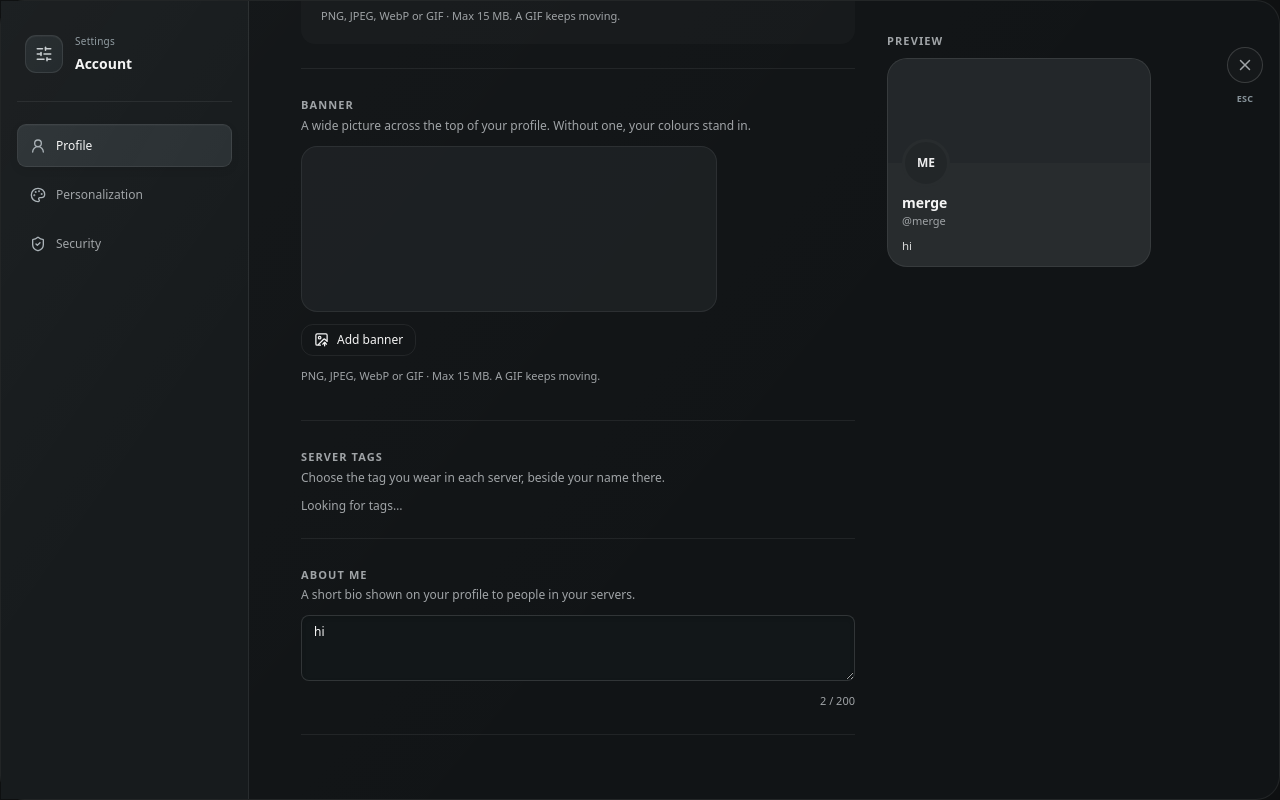
AccountDialog › puts everything back with Reset
The image size is (1280, 800).
(page scrolled)
Step 1. Replace the text in the text box named "Bio" with "changed my mind" → {"x": 578, "y": 648}, box [301,615,855,681]
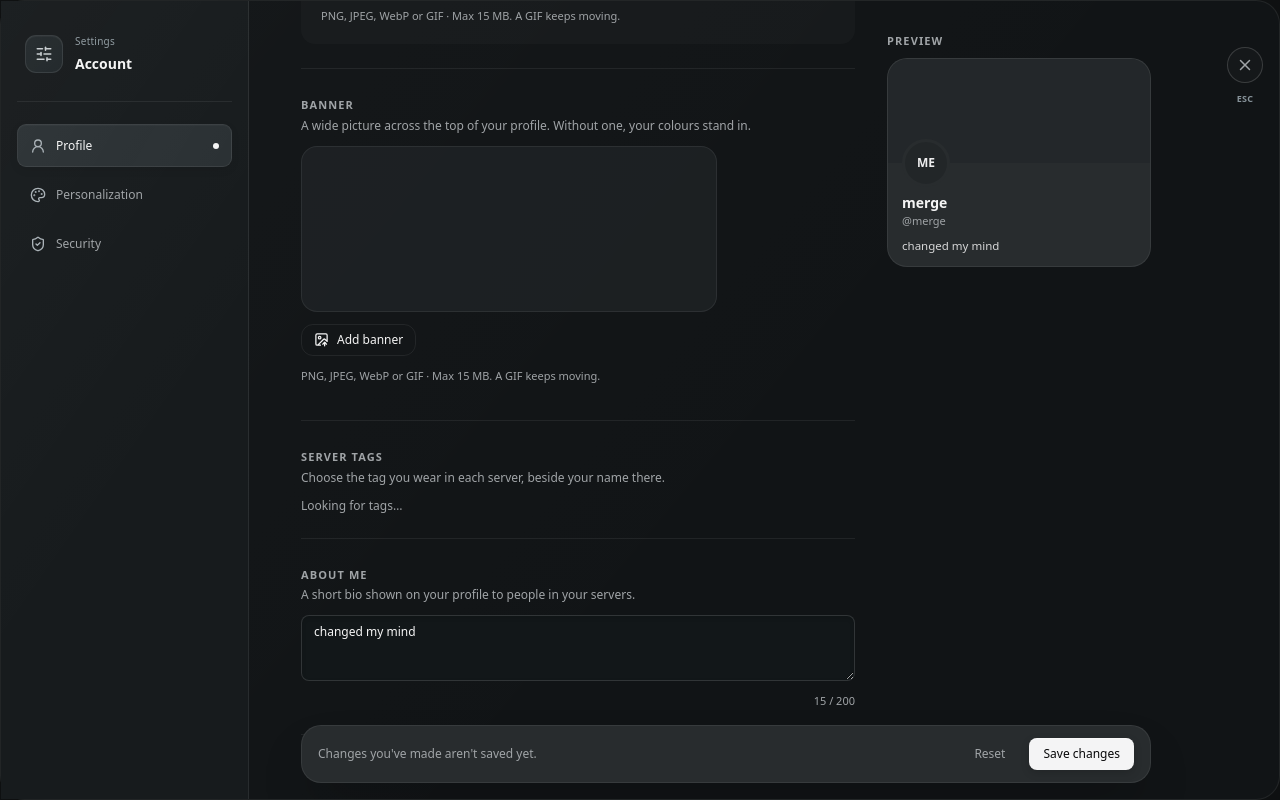
Step 2. Click the button "Reset" → {"x": 990, "y": 754}, box [962,738,1018,770]
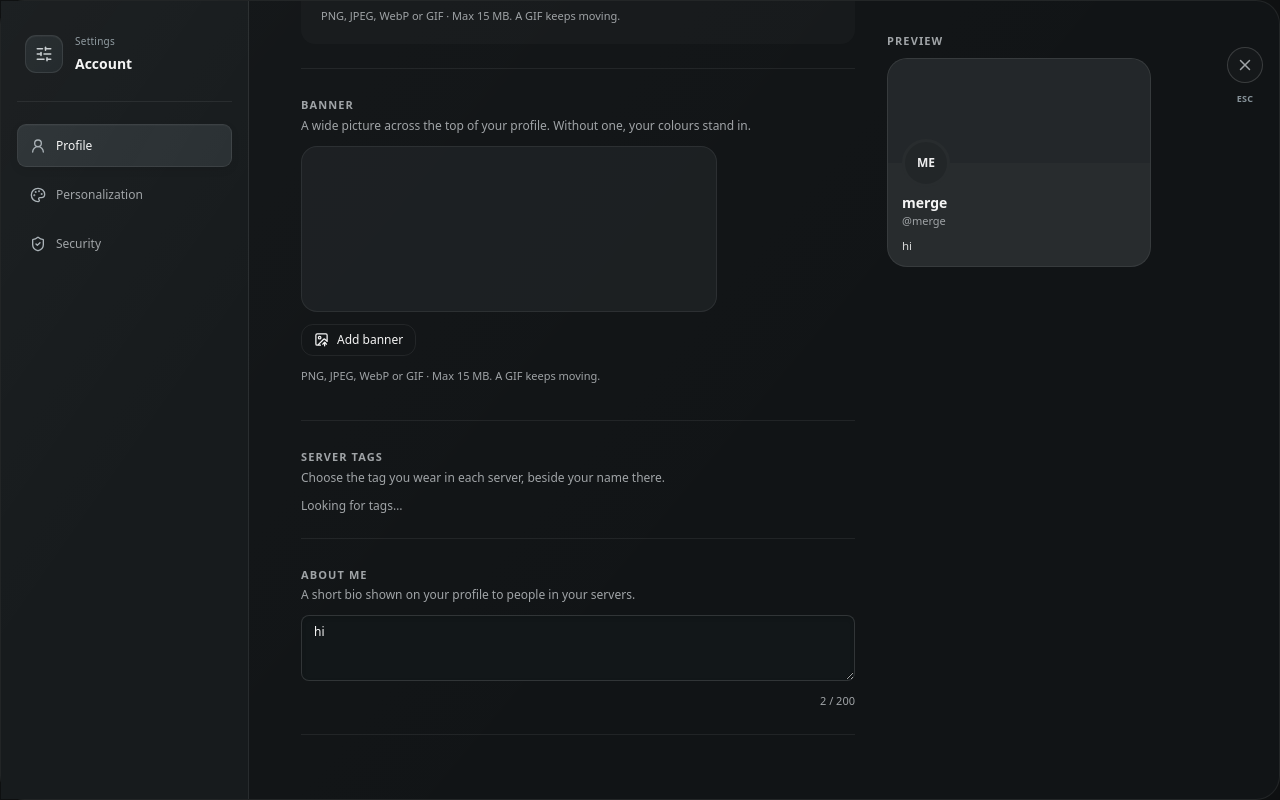
expect the text box named "Bio" holds "hi": met, box [301,615,855,681]
